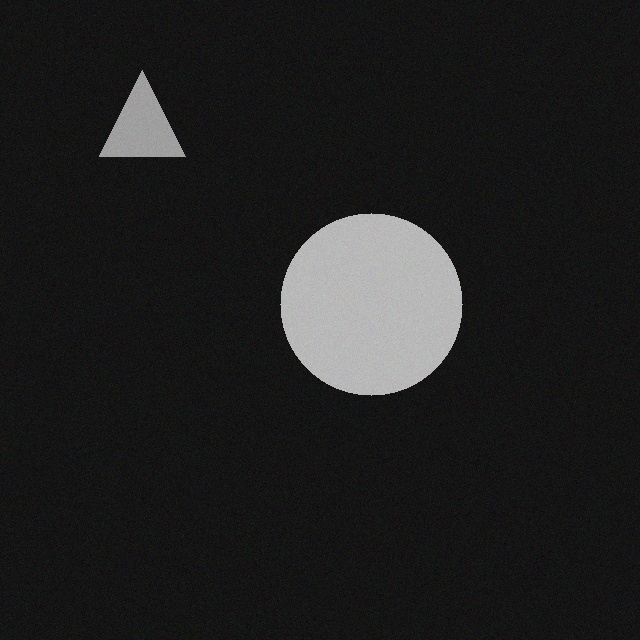circle: (269, 210, 451, 392)
triangle: (88, 67, 174, 153)
